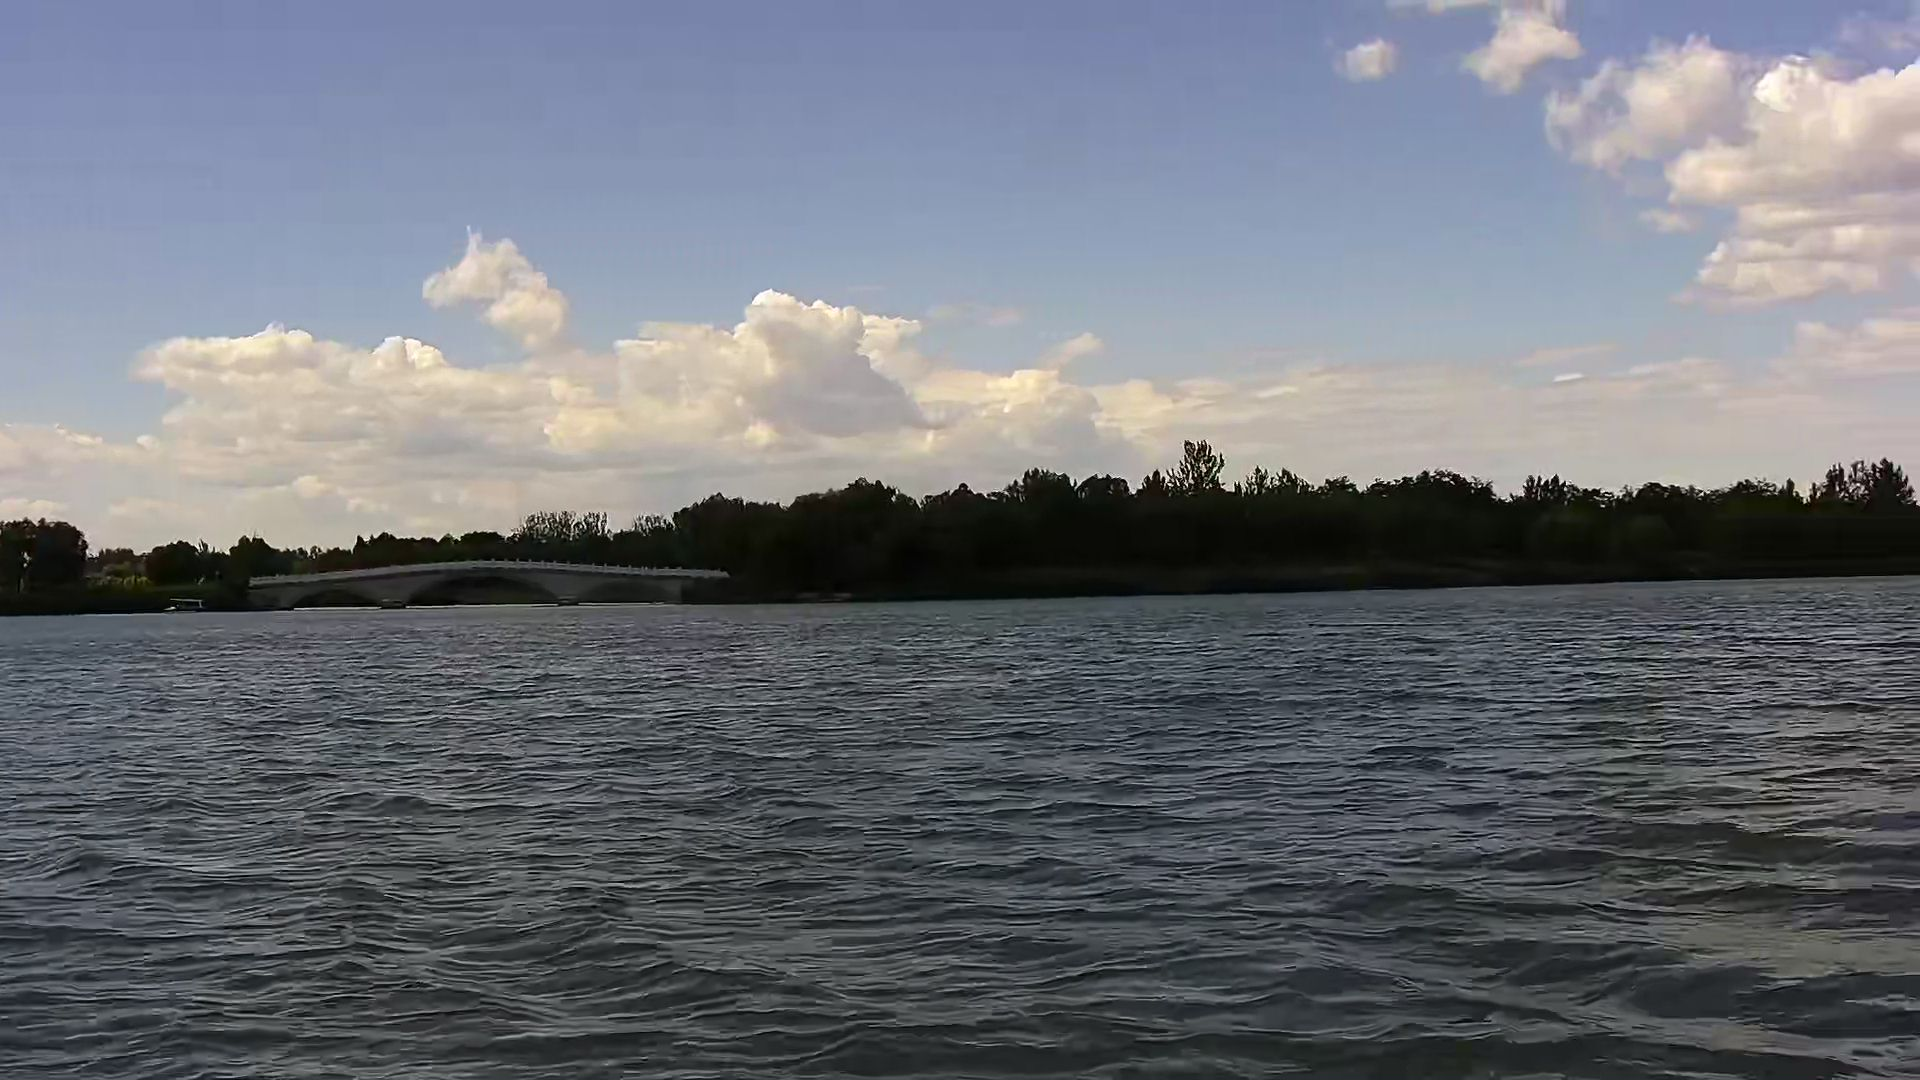bridge: (248, 556, 735, 608)
